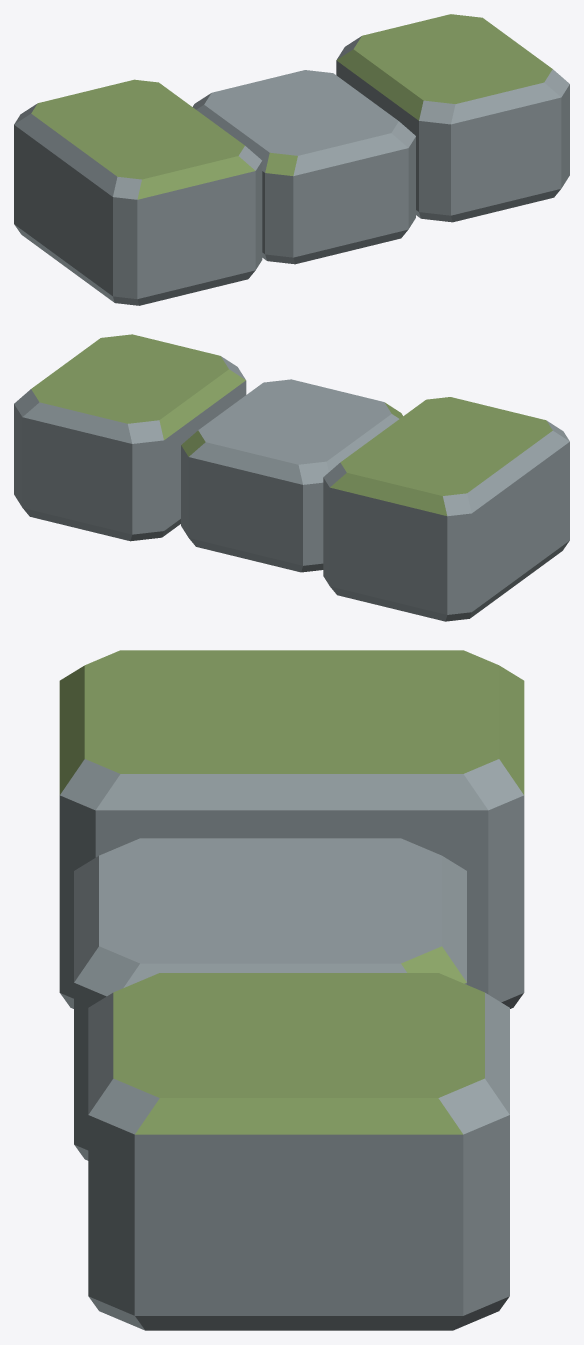
File: SM_MarshwardFoundation_01.fbx
3 renders of one model, top to bottom at view 1: azimuth 30°, elevation 25°; view 2: azimuth 150°, elevation 25°; view 3: azimuth 270°, elevation 25°, orthographic. The views are drawn at different scales.
Visible parts, largest first — view 1: SM_MarshwardFoundation_01; view 2: SM_MarshwardFoundation_01; view 3: SM_MarshwardFoundation_01.
Boxes of the visible parts, x1=… form: SM_MarshwardFoundation_01: x1=14, y1=14, x2=569, y2=305; SM_MarshwardFoundation_01: x1=14, y1=334, x2=569, y2=621; SM_MarshwardFoundation_01: x1=59, y1=650, x2=524, y2=1330.
Size of what is drawn, in the model's own units: 600 by 260 by 150.
